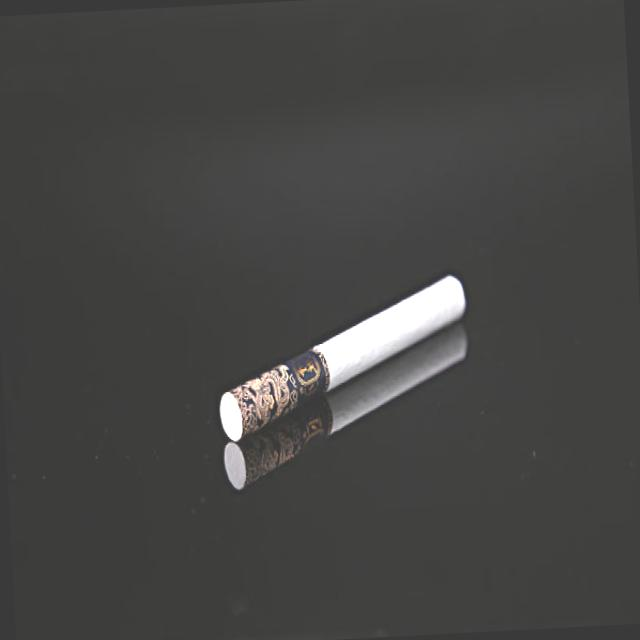smoke: (210, 271, 480, 444)
